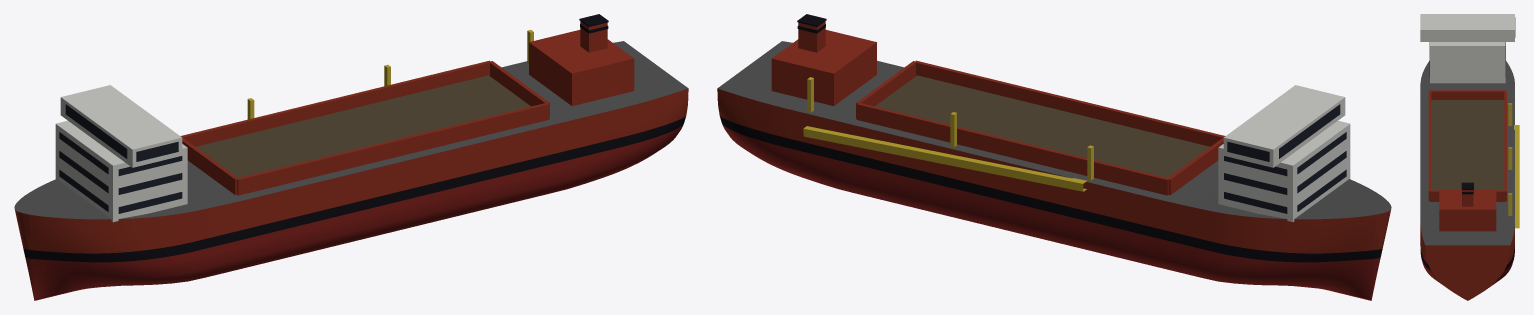
The model's file is dredger.glb.
3 views of the same model, side by side, from view 1: azimuth 30°, elevation 25°; view 2: azimuth 150°, elevation 25°; view 3: azimuth 270°, elevation 25° (orthographic). The views are drawn at different scales.
Visible parts, largest first — view 1: dredger; view 2: dredger; view 3: dredger.
Boxes of the visible parts, x1,y1,x2,y2 form: dredger: (14,14,688,300); dredger: (717,14,1391,300); dredger: (1420,14,1519,300).
Bounding box in the file's own units: 103 × 24.96 × 21.06.
